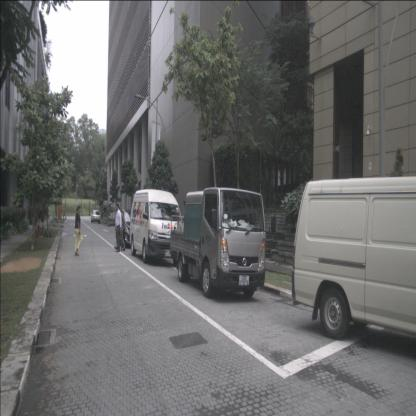human-pedestrian-adult: (113, 205, 126, 251), (74, 205, 82, 256), (115, 203, 122, 254)
vehicle-car: (292, 176, 416, 340), (130, 189, 184, 264), (117, 208, 144, 249), (91, 210, 101, 224)
vehicle-truck: (170, 186, 266, 298)
